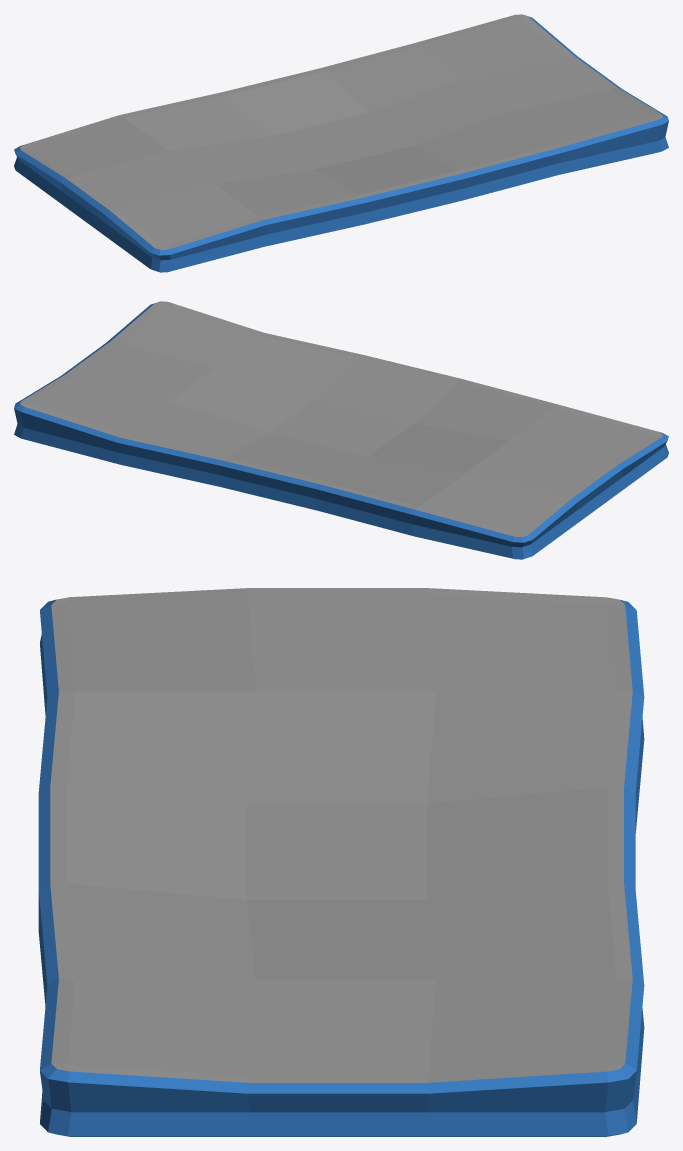
File: Int_GymMats01.fbx
The picture shows the model from 3 angles, top to bottom: view 1: azimuth 30°, elevation 25°; view 2: azimuth 150°, elevation 25°; view 3: azimuth 270°, elevation 25°; orthographic projection. The views are drawn at different scales.
Visible parts, largest first — view 1: Int_GymMats01; view 2: Int_GymMats01; view 3: Int_GymMats01.
Boxes of the visible parts, bbox=[...] form: Int_GymMats01: bbox=[14, 14, 668, 272]; Int_GymMats01: bbox=[14, 301, 668, 559]; Int_GymMats01: bbox=[38, 588, 644, 1136].
Size of what is drawn, in the model's own units: 270 by 137 by 16.33.
